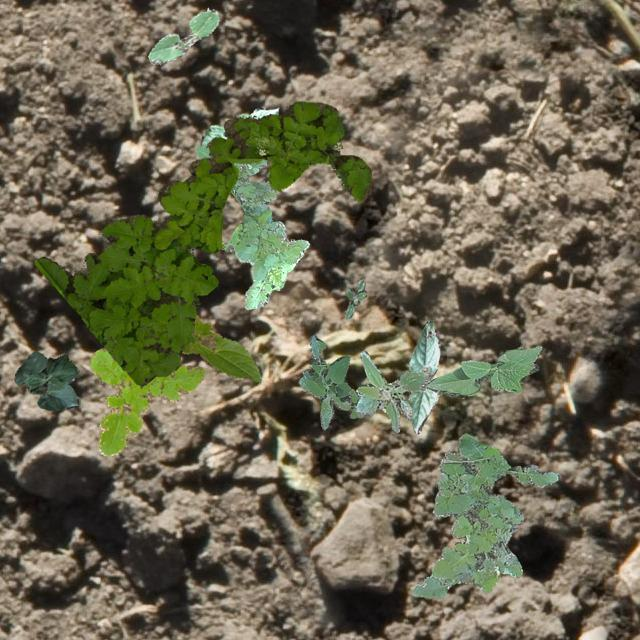crop: (424, 344, 540, 396), (180, 314, 260, 382), (146, 6, 218, 64), (13, 350, 78, 410), (406, 320, 438, 432), (200, 106, 278, 144)
weed: (34, 100, 372, 384), (412, 432, 558, 598), (194, 144, 308, 308), (89, 348, 202, 456), (354, 349, 429, 432), (298, 334, 362, 428), (344, 278, 366, 318)
